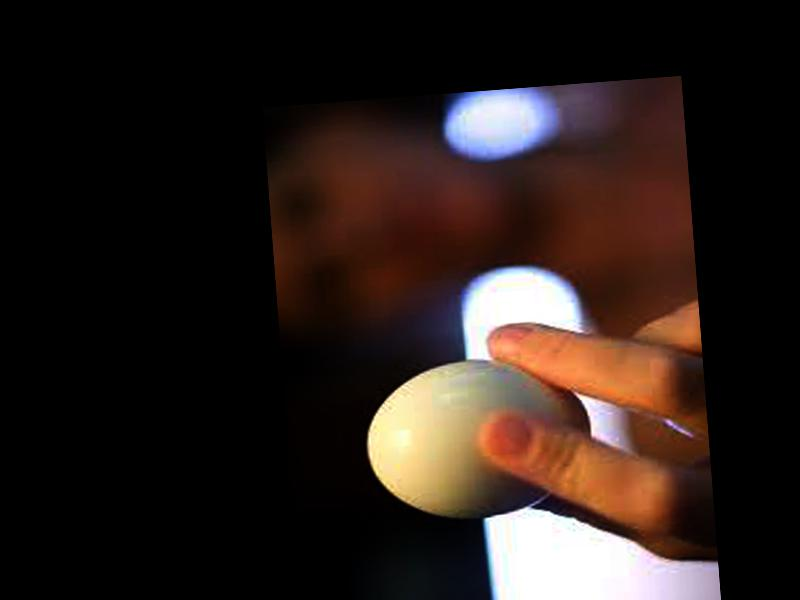Eggs: (360, 348, 596, 523)
